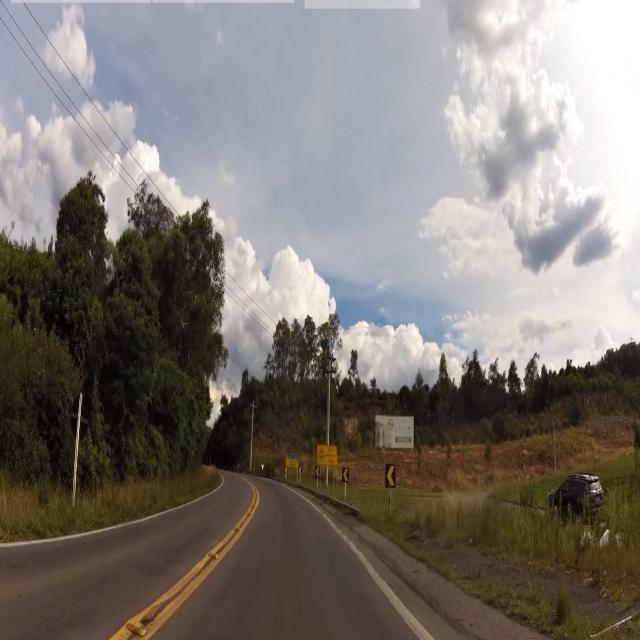Del: (386, 458, 396, 496), (342, 467, 352, 483)
